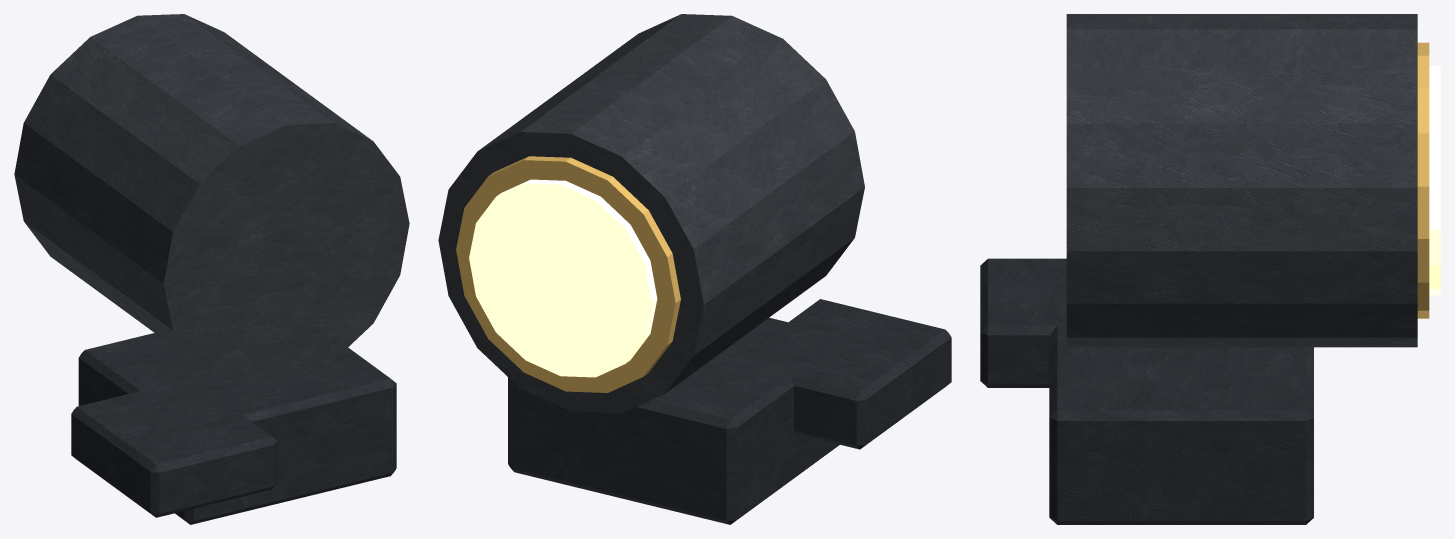
File: train_headlight_side.gltf
The picture shows the model from 3 angles, left to right: view 1: azimuth 30°, elevation 25°; view 2: azimuth 150°, elevation 25°; view 3: azimuth 270°, elevation 25°; orthographic projection. The views are drawn at different scales.
Bounding box in the file's own units: 0.69 × 0.84 × 0.8.
4 materials, 2 textured.
